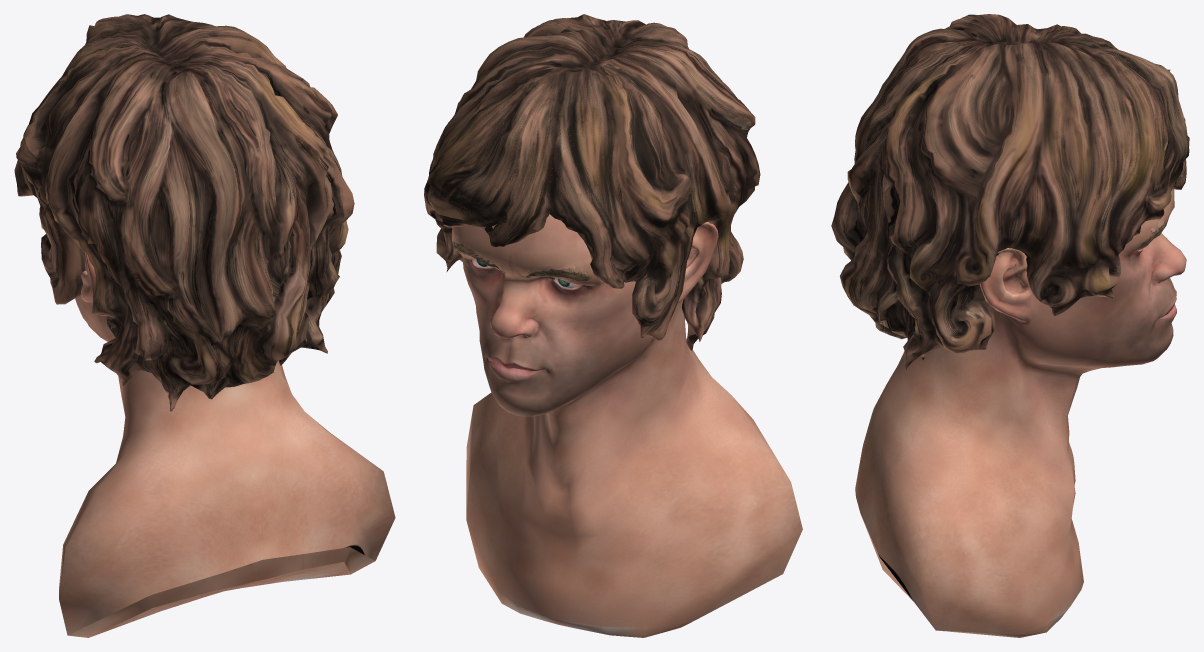
File: tyrion.gltf
3 renders of one model, left to right at view 1: azimuth 30°, elevation 25°; view 2: azimuth 150°, elevation 25°; view 3: azimuth 270°, elevation 25°, orthographic.
Size of the model in its own units: 3.23 by 5.24 by 3.03.
2 materials, 2 textured.
